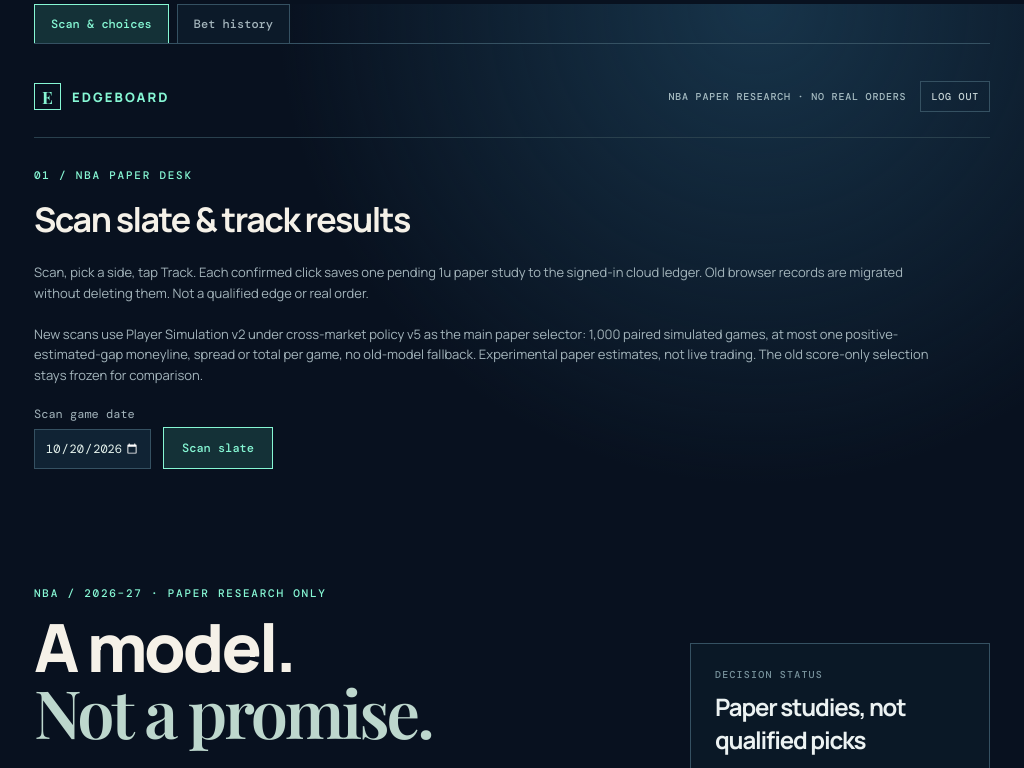
Test: October 20 NBA Kalshi checklist › discards an in-flight scan when its date is changed and changed back
Click the button "Scan slate": (218, 448) [163,427,273,469]
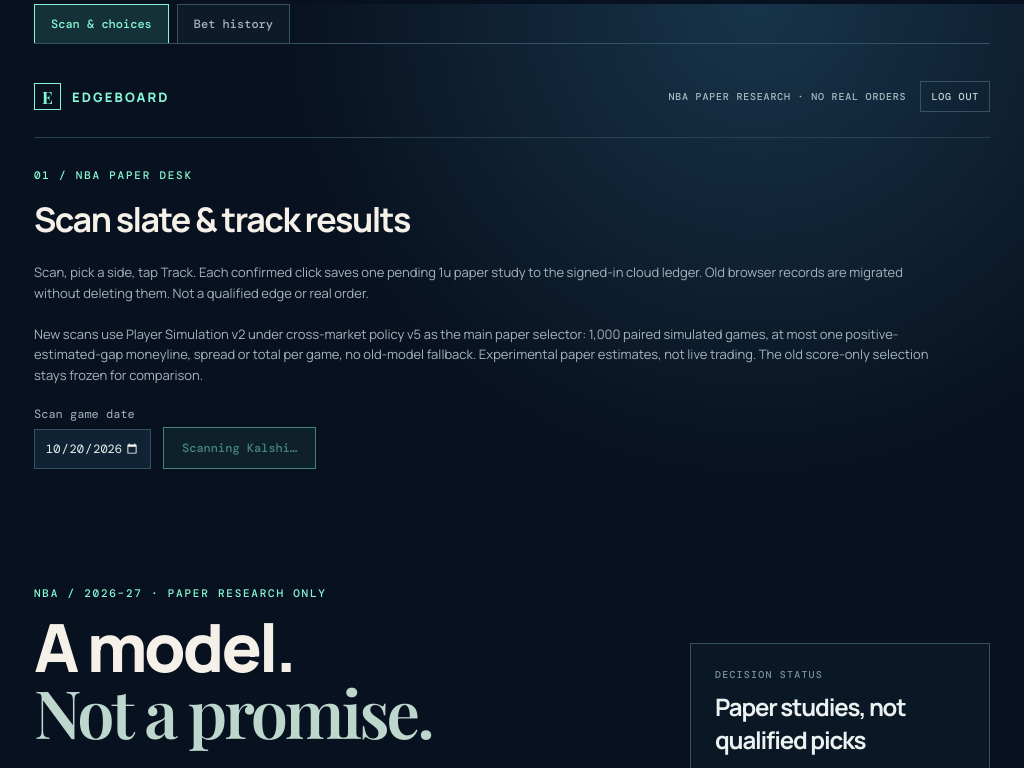
In the date field labelled "Scan game date": (92, 449) [34,429,151,469], type "2026-10-21"
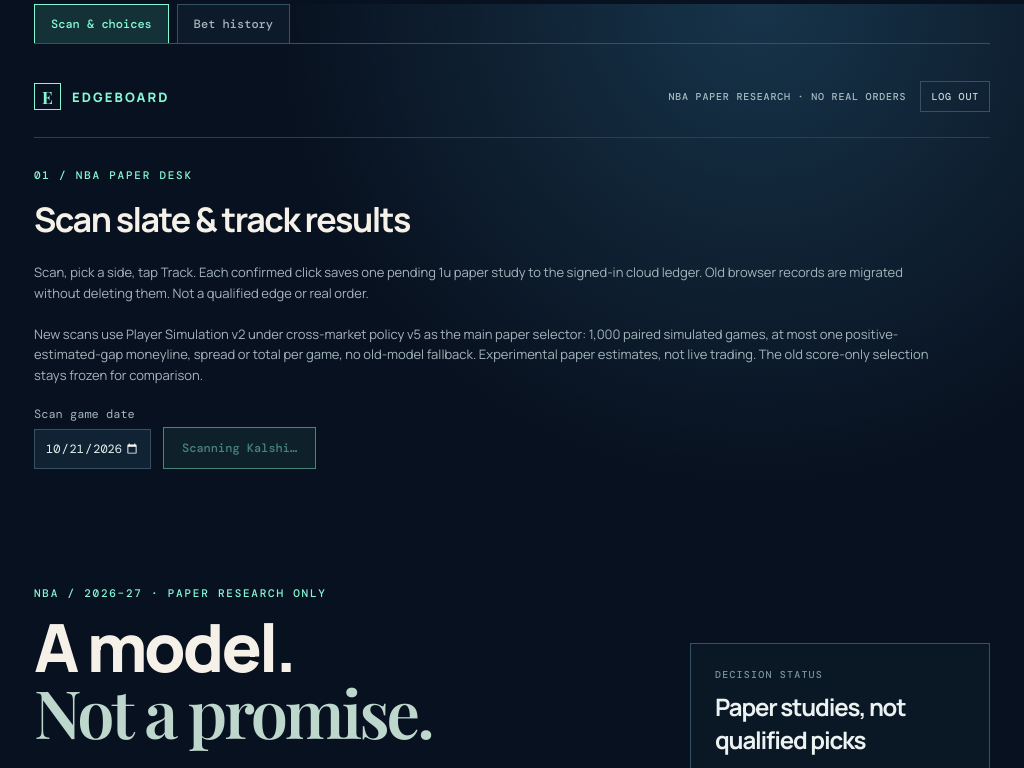
In the date field labelled "Scan game date": (92, 449) [34,429,151,469], type "2026-10-20"
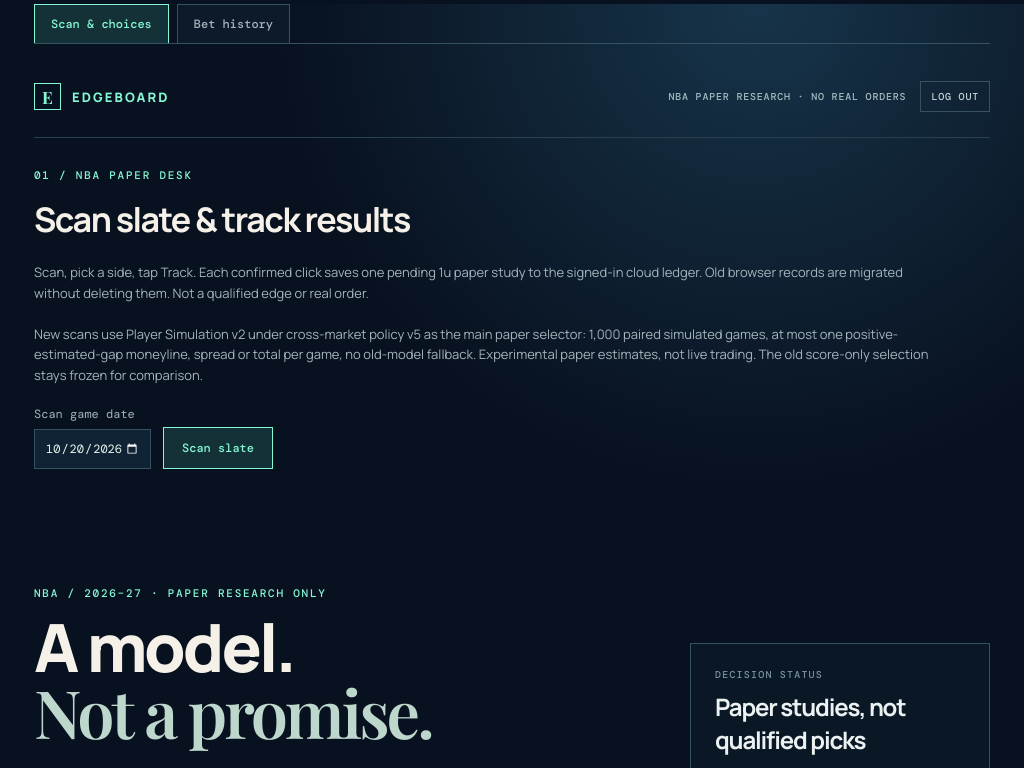
Result: the button "Scan slate" is enabled at [163,427,273,469]
